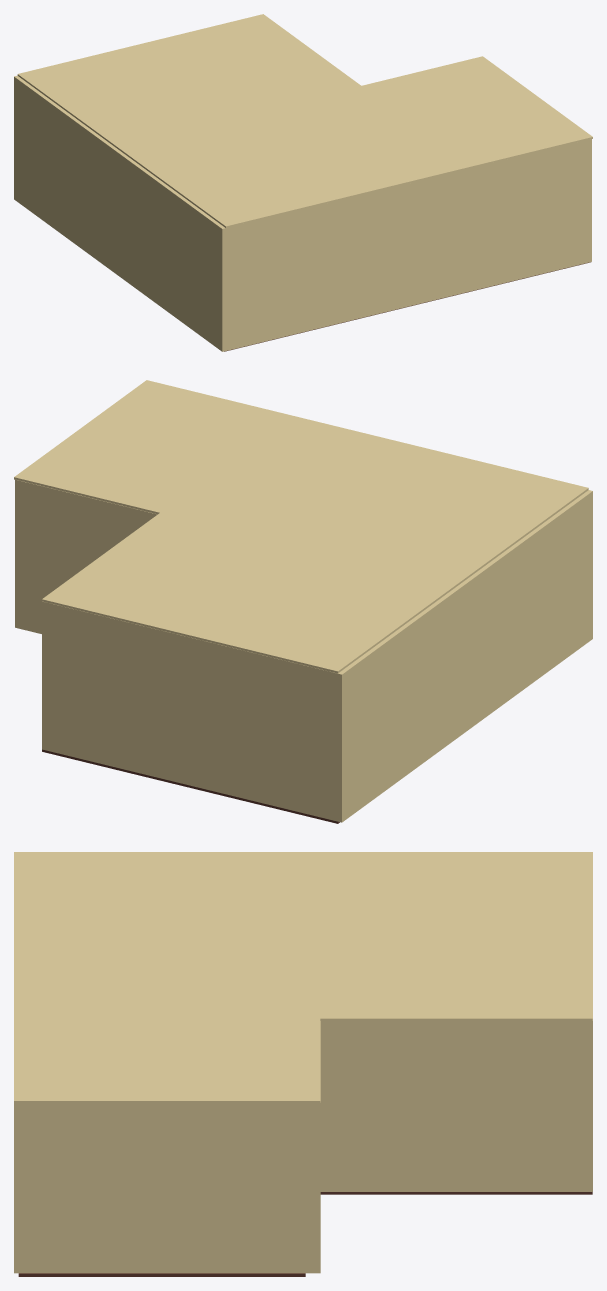
The model's file is Room.fbx.
The picture shows the model from 3 angles, top to bottom: view 1: azimuth 30°, elevation 25°; view 2: azimuth 150°, elevation 25°; view 3: azimuth 270°, elevation 25°; orthographic projection. The views are drawn at different scales.
Parts seen in each view (by area): view 1: front2; view 2: front2; view 3: front2.
Boxes of the visible parts, bbox=[...] form: front2: bbox=[14, 14, 592, 351]; front2: bbox=[14, 380, 592, 823]; front2: bbox=[14, 852, 592, 1276].
Size of the model in its own units: 1987 by 649 by 1935.
